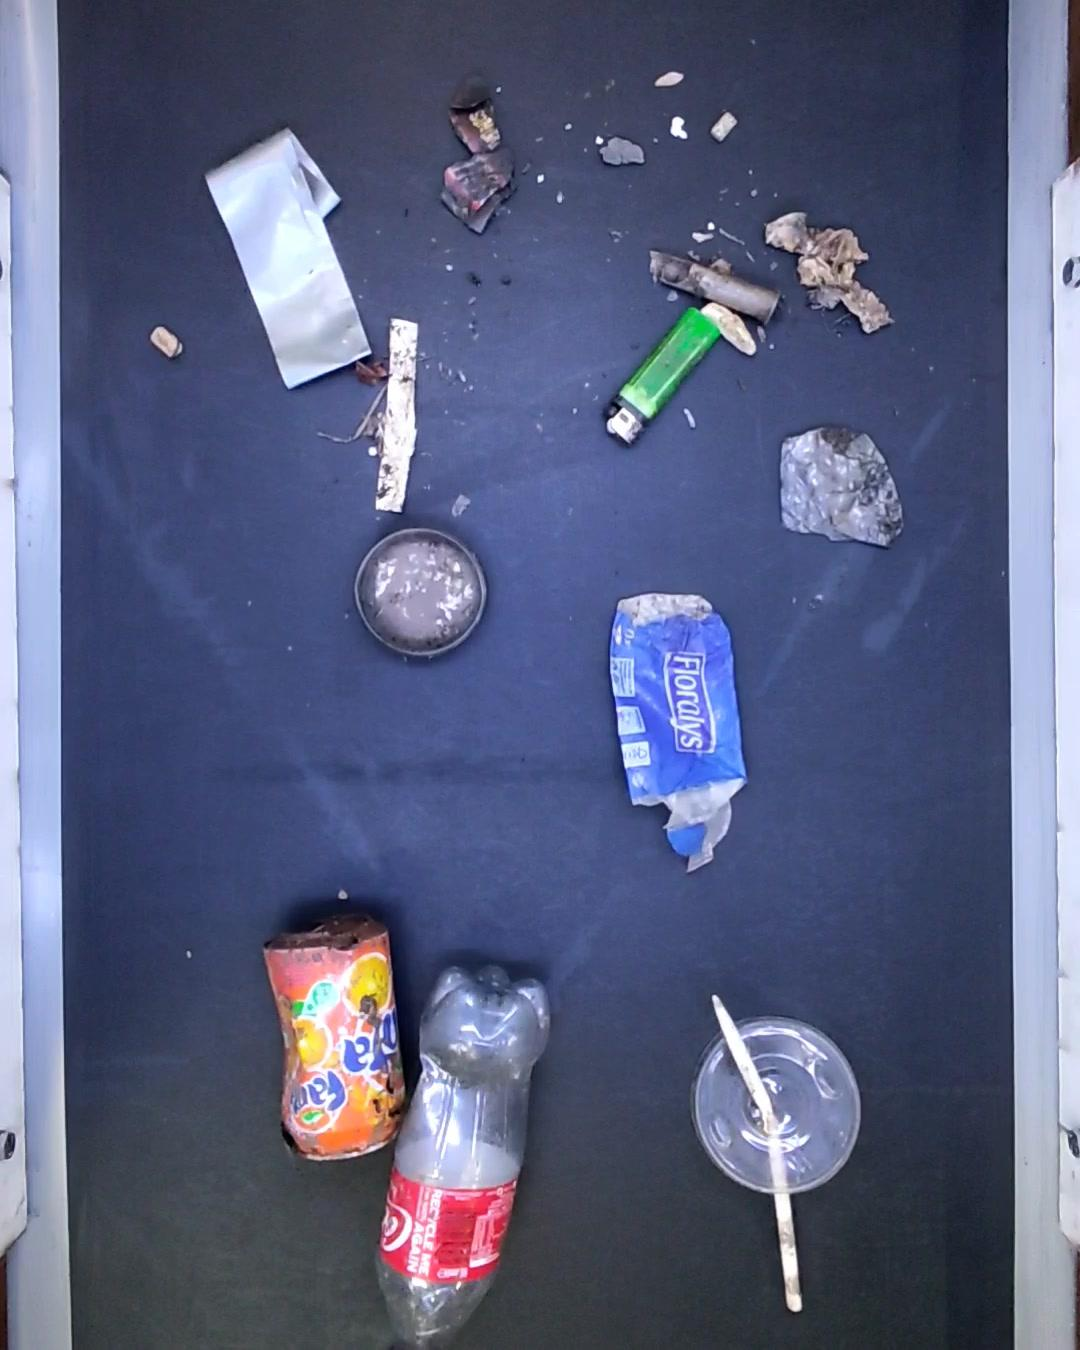Drankblikjes: (266, 908, 415, 1163)
Drankflessen - 1-2 liter: (378, 965, 554, 1350)
